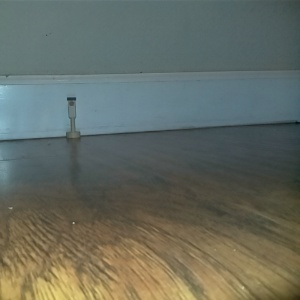traffic light red: (63, 94, 82, 140)
